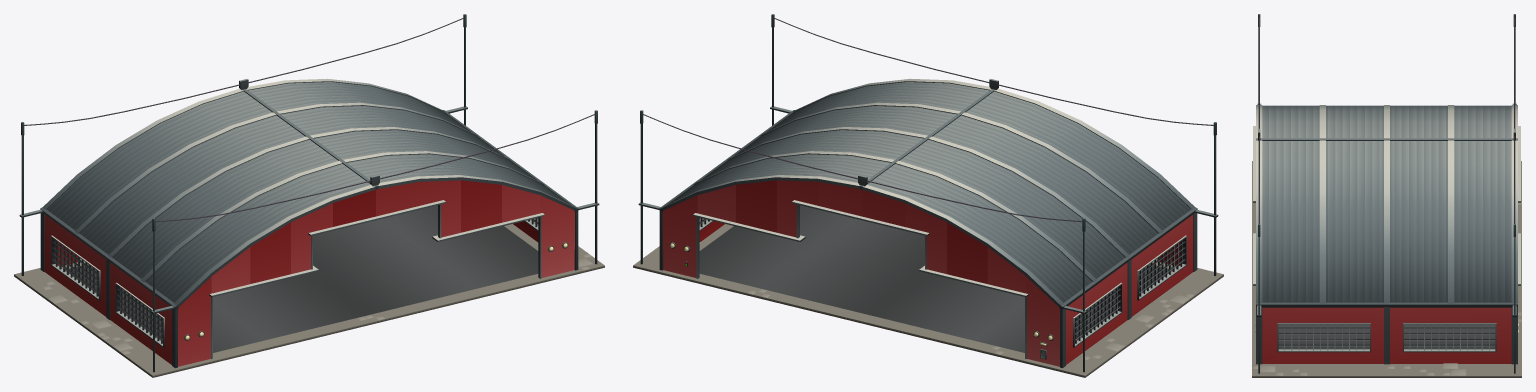
File: tp_hangar_02a.glb
3 views of the same model, side by side, from view 1: azimuth 30°, elevation 25°; view 2: azimuth 150°, elevation 25°; view 3: azimuth 270°, elevation 25° (orthographic). The views are drawn at different scales.
Parts seen in each view (by area): view 1: TP_Hangar_02A; view 2: TP_Hangar_02A; view 3: TP_Hangar_02A.
Boxes of the visible parts, box(x1,y1,x2,y2) form: TP_Hangar_02A: box(14, 14, 604, 377); TP_Hangar_02A: box(633, 14, 1223, 377); TP_Hangar_02A: box(1252, 14, 1521, 377).
Bounding box in the file's own units: 64 × 21.02 × 34.
Materials: 1 (1 with a texture image).
